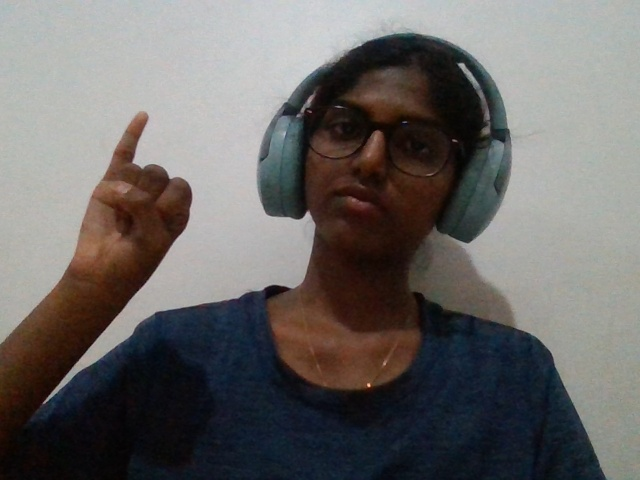I: (27, 99, 210, 377)
